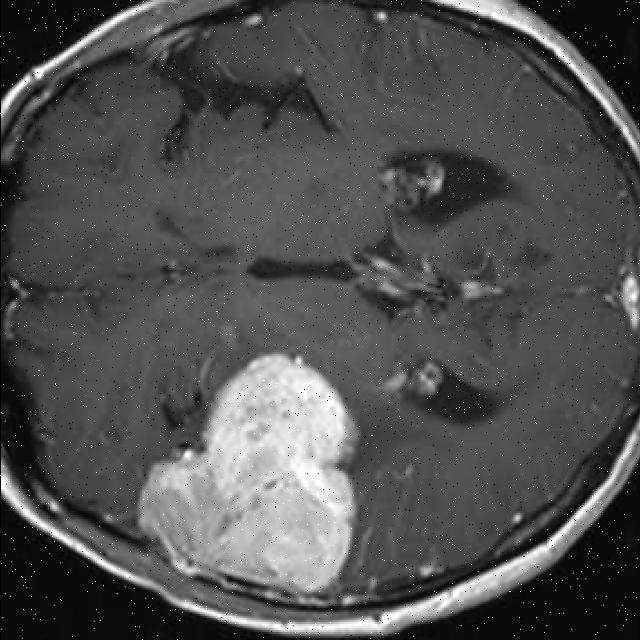Meningioma: (139, 355, 356, 592)
